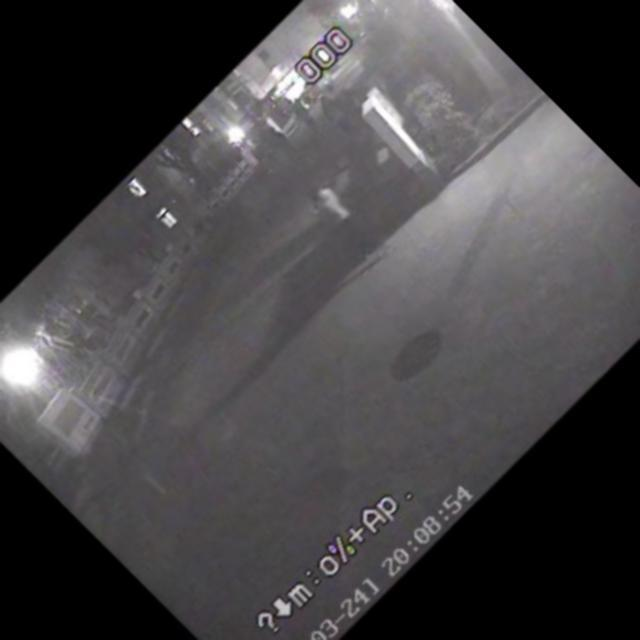person: (291, 164, 400, 272), (310, 89, 374, 152), (260, 122, 318, 179), (291, 102, 327, 138)
